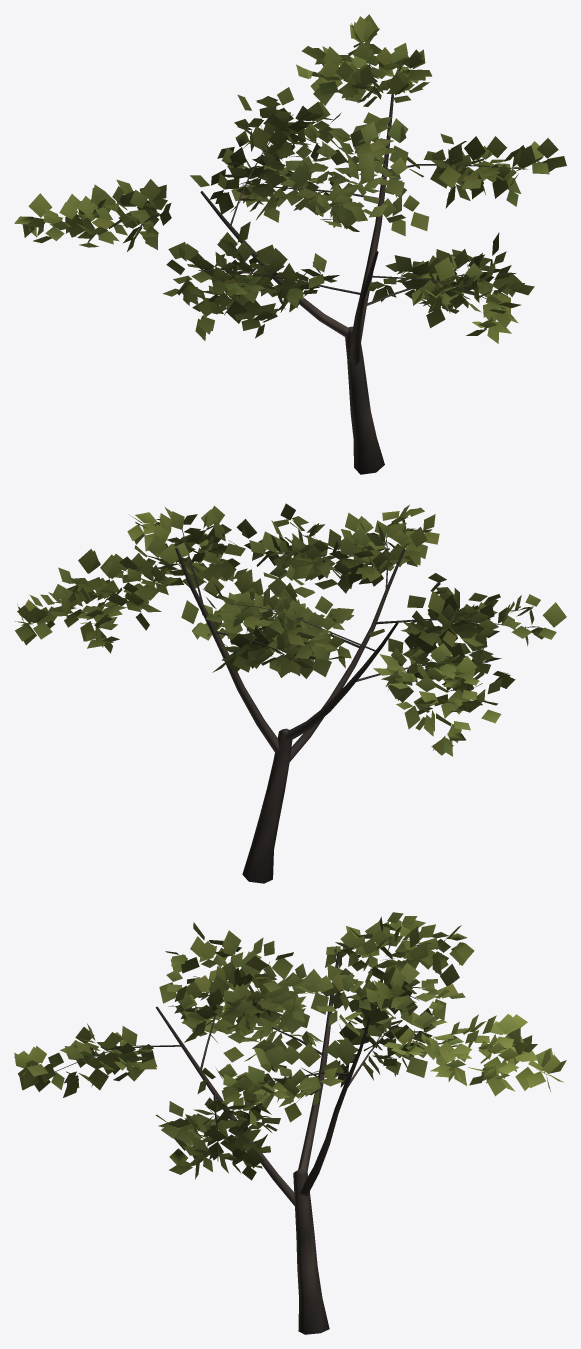
The model's file is acacia-b.lod1.glb.
The picture shows the model from 3 angles, top to bottom: view 1: azimuth 30°, elevation 25°; view 2: azimuth 150°, elevation 25°; view 3: azimuth 270°, elevation 25°; orthographic projection.
Size of the model in its own units: 9.44 by 7.34 by 10.1.
